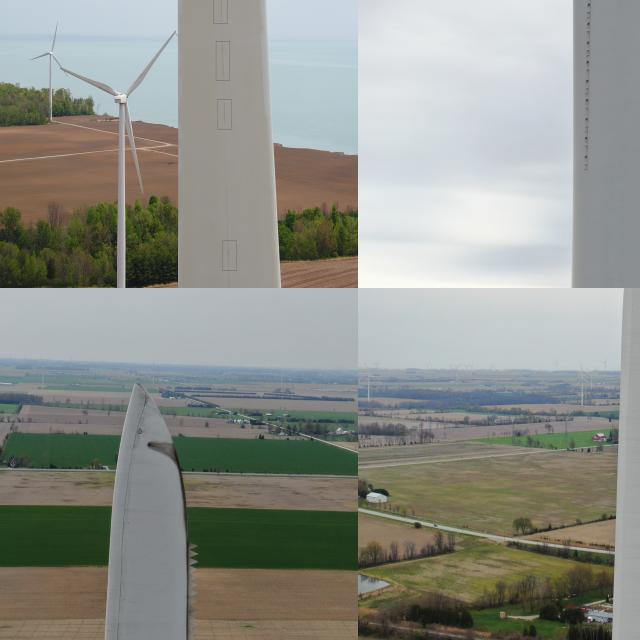damage: (143, 436, 180, 466), (219, 42, 227, 82), (222, 102, 230, 128), (219, 0, 224, 25), (226, 242, 231, 264)
